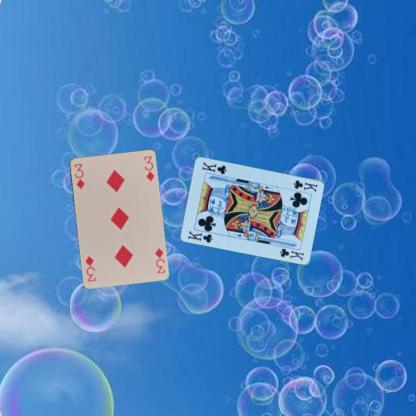3d: (72, 161, 86, 190), (152, 245, 166, 274)
Kc: (185, 228, 214, 244), (291, 178, 318, 194)
